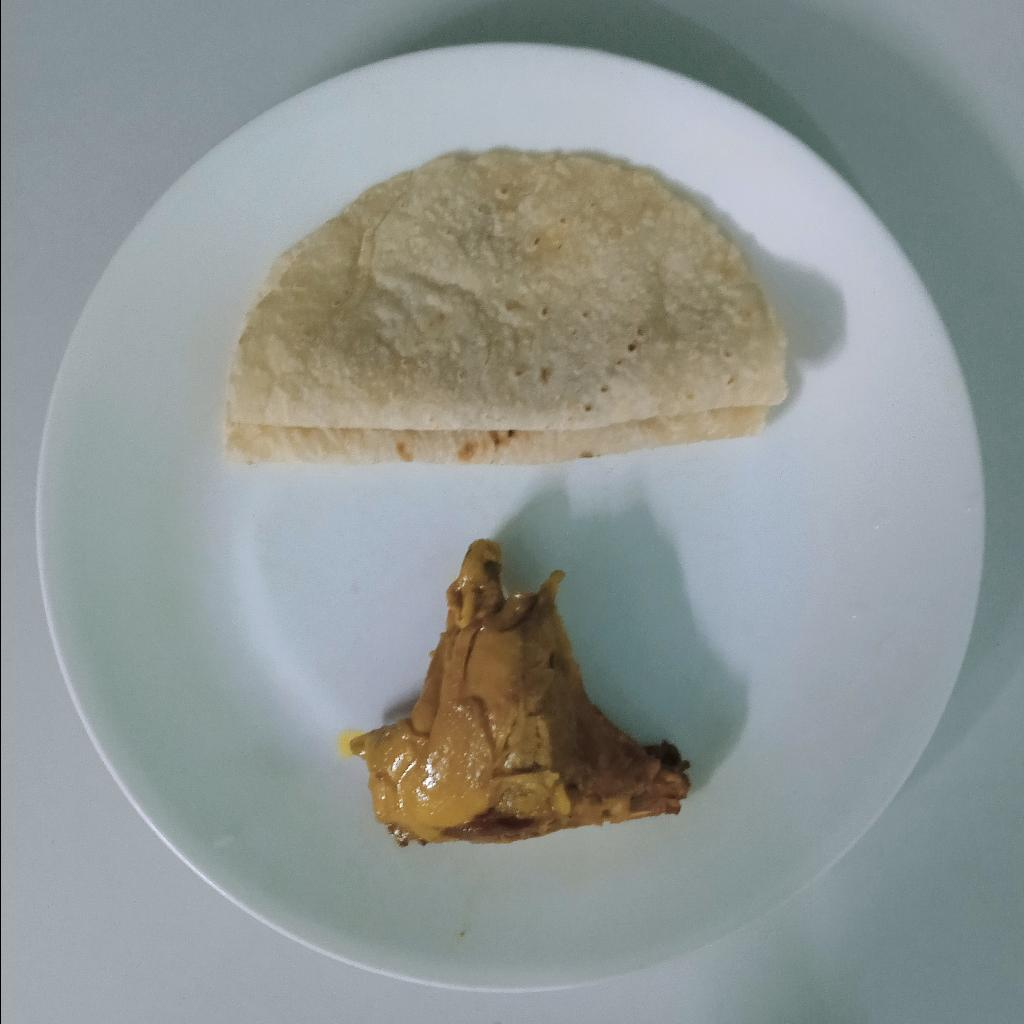chicken: (345, 537, 691, 849)
ruti: (220, 151, 790, 467)
